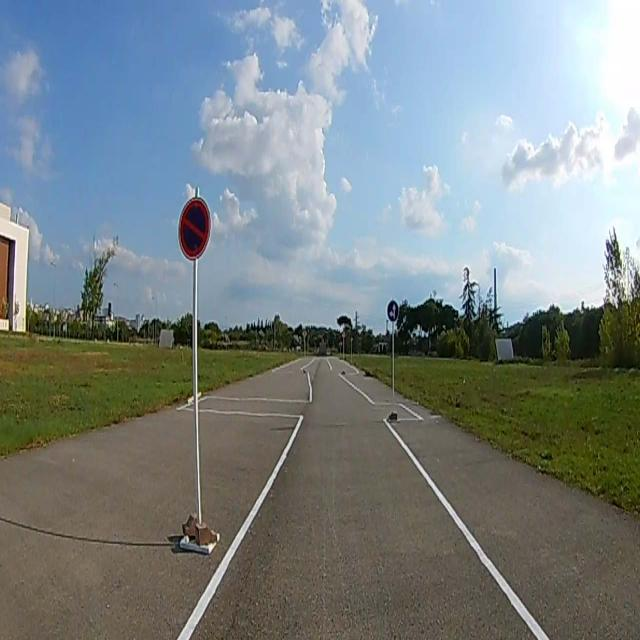parkyasak: (179, 198, 209, 256)
